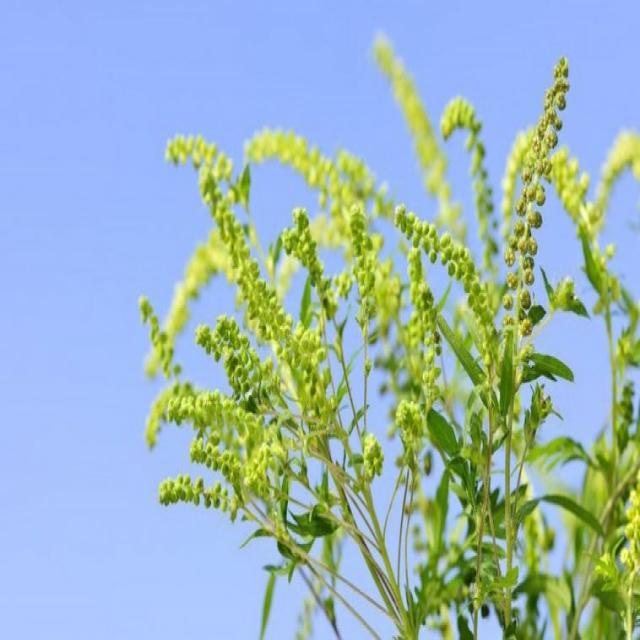ambrosia: (138, 323, 355, 605), (146, 120, 358, 380), (480, 46, 577, 389), (373, 169, 479, 446)
